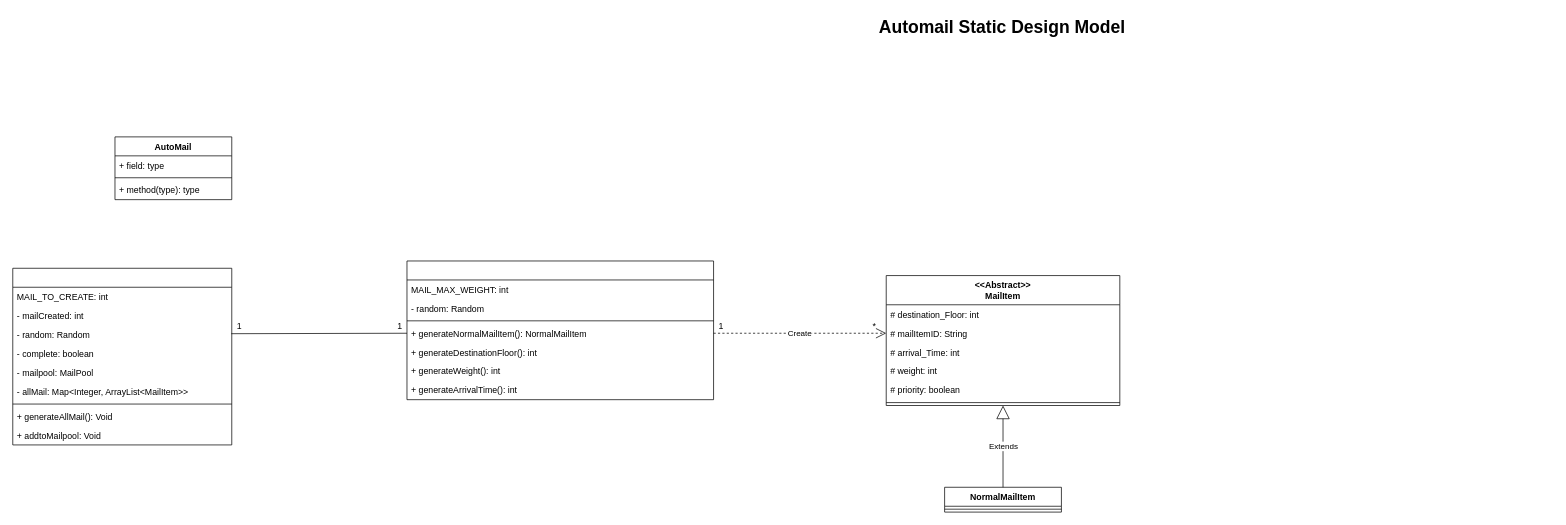
This 1566x525 diagram has some shape labels left out. Here are the shapes that lost their labels. From the top down, the box of each, then its label:
(406, 260, 714, 400): MailItemFactory
(12, 268, 232, 445): MailGenerator
